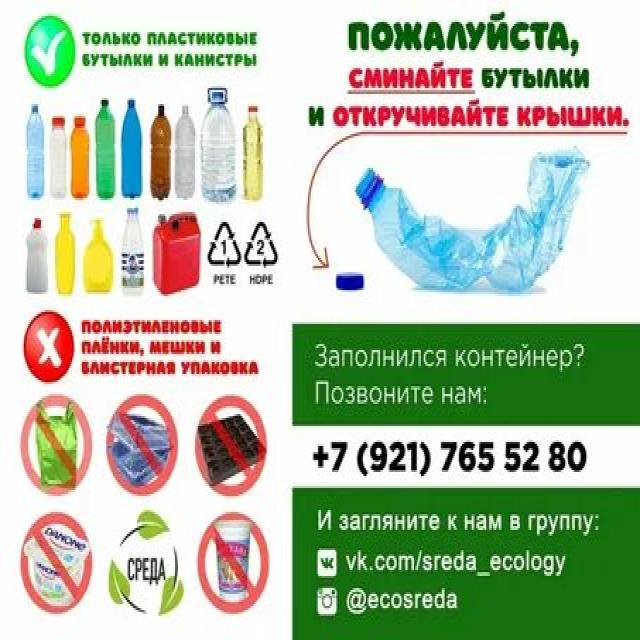blue: (354, 142, 591, 292), (24, 102, 44, 198)
brown: (150, 102, 172, 200)
green: (95, 98, 115, 200)
